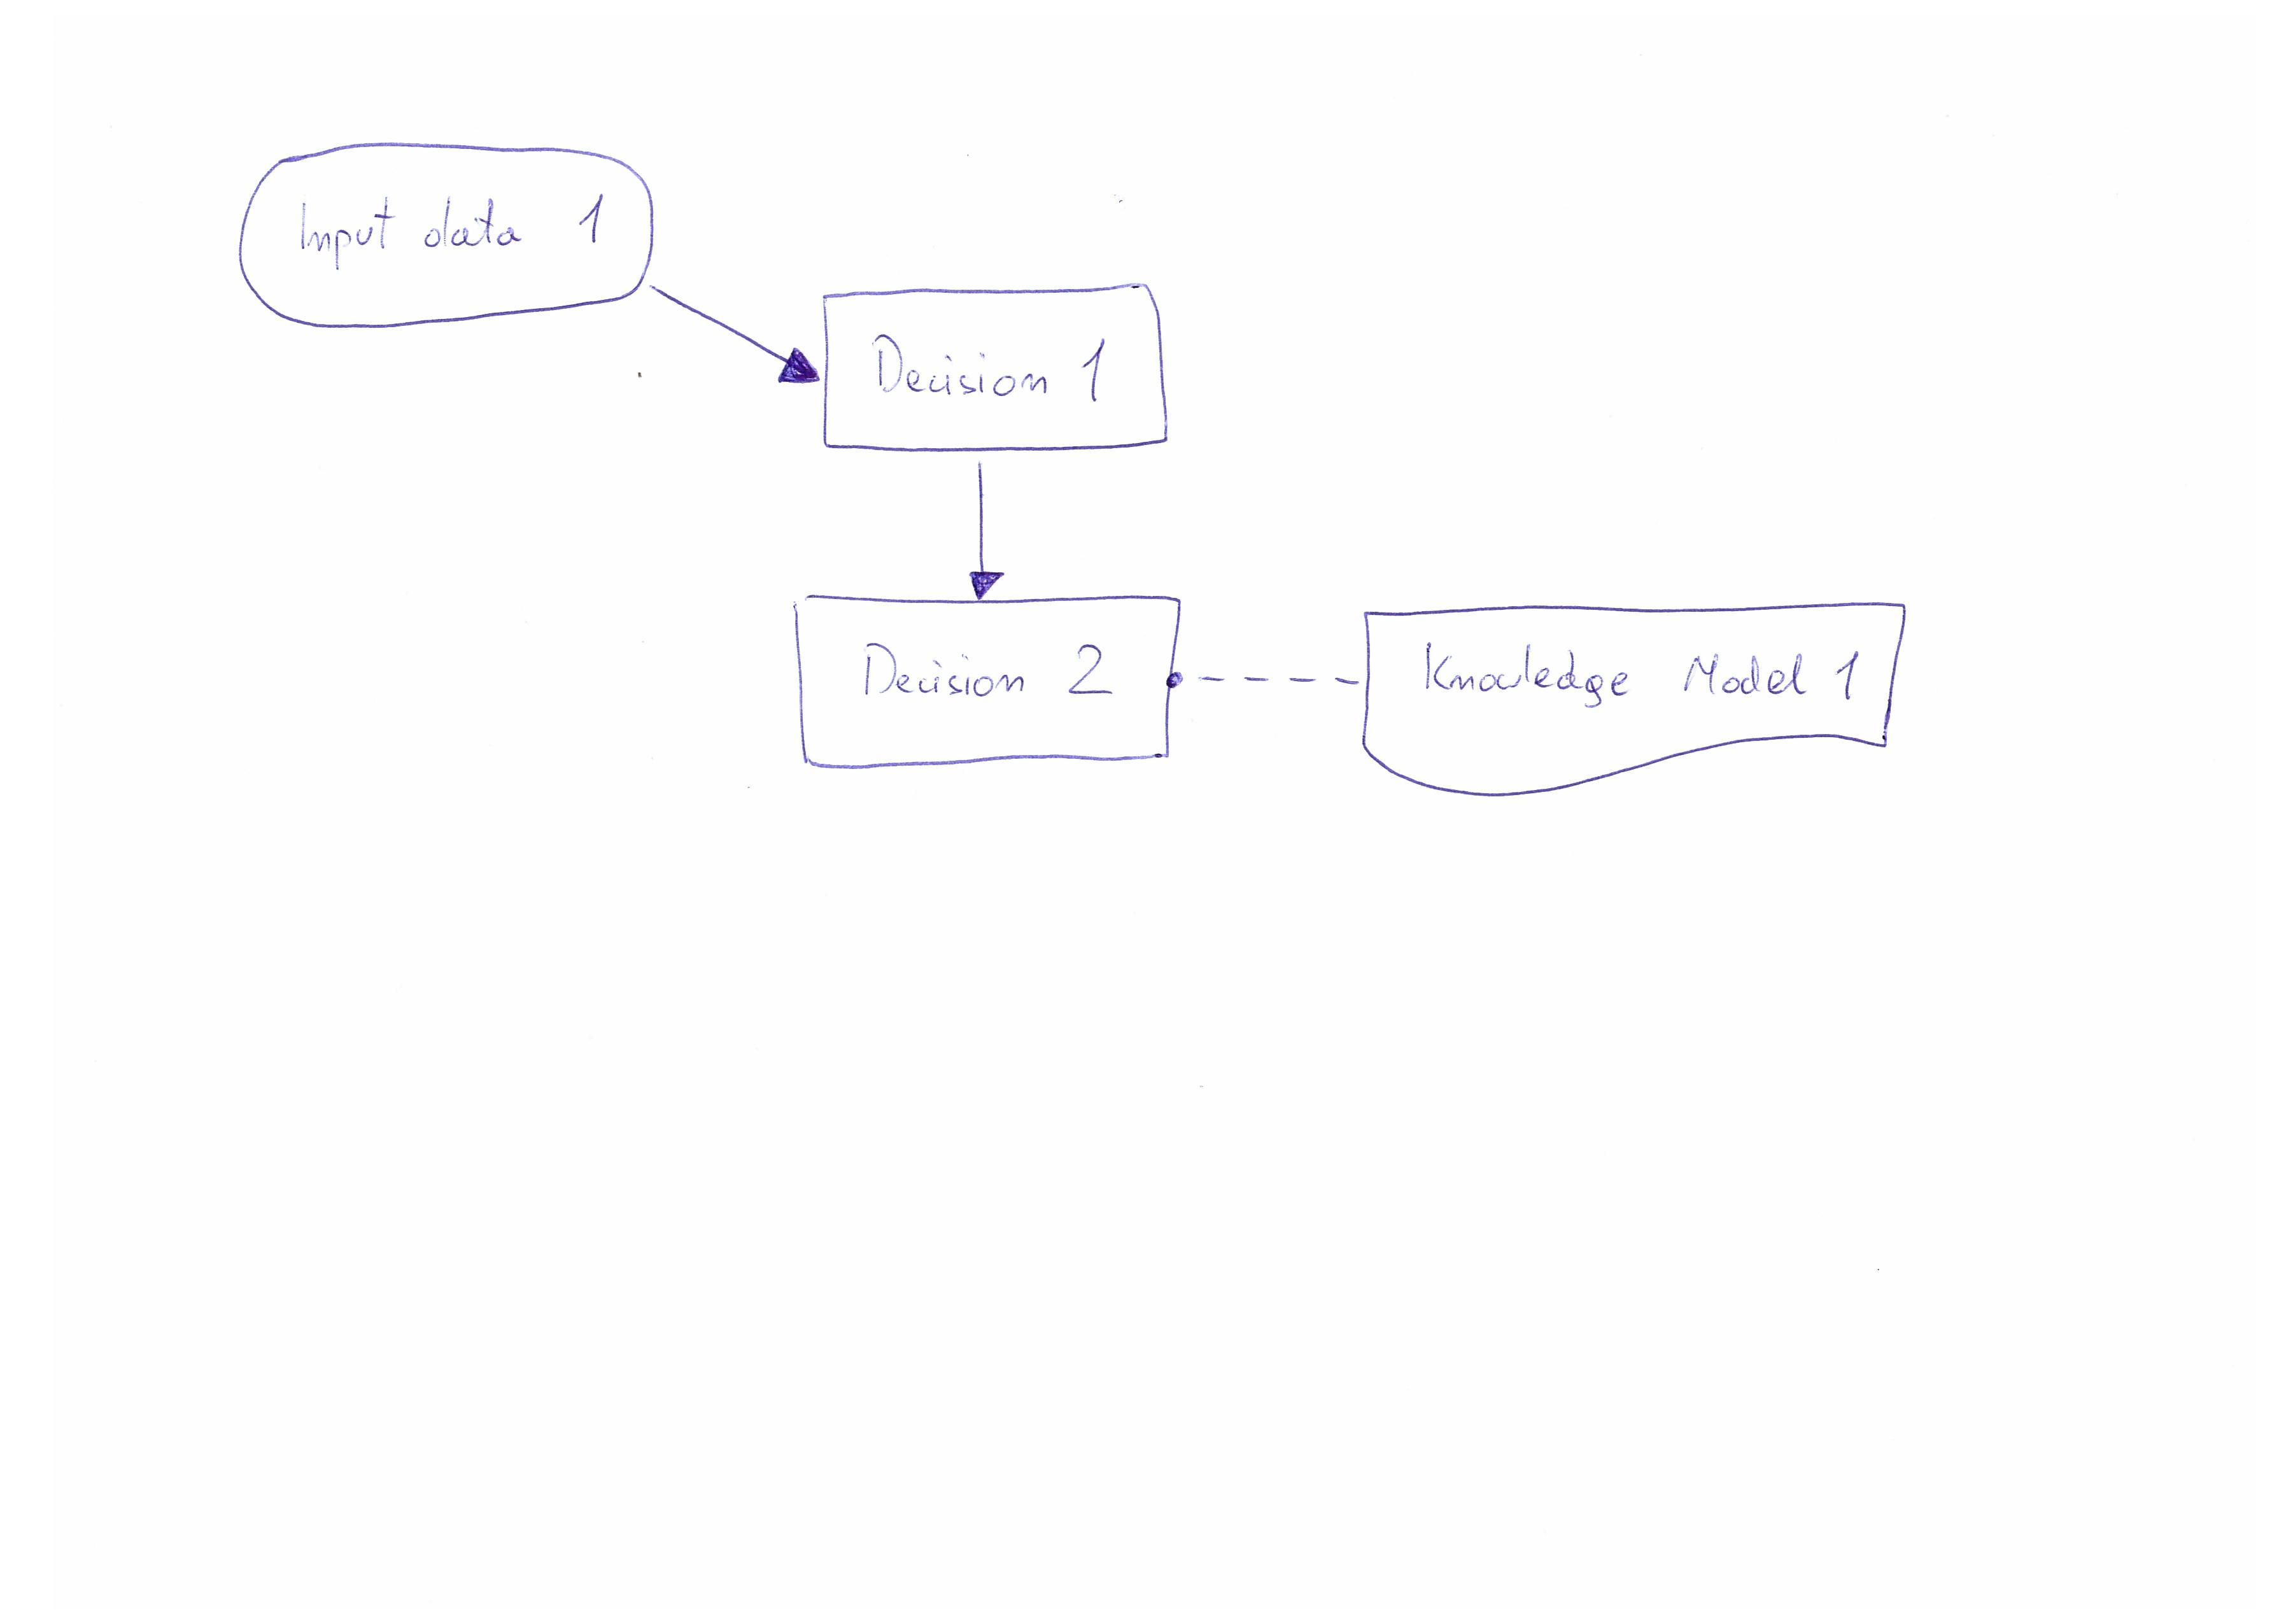arrow_authority_requirement: (1170, 657, 1369, 710)
arrow_information_requirement: (650, 278, 822, 394), (956, 455, 1005, 599)
node_decision: (784, 591, 1181, 768), (821, 278, 1170, 453)
node_input_data: (234, 134, 655, 334)
node_knowledge_source: (1358, 599, 1914, 807)
text: (1409, 629, 1870, 724), (293, 183, 608, 281), (859, 315, 1116, 418), (852, 629, 1126, 721)
